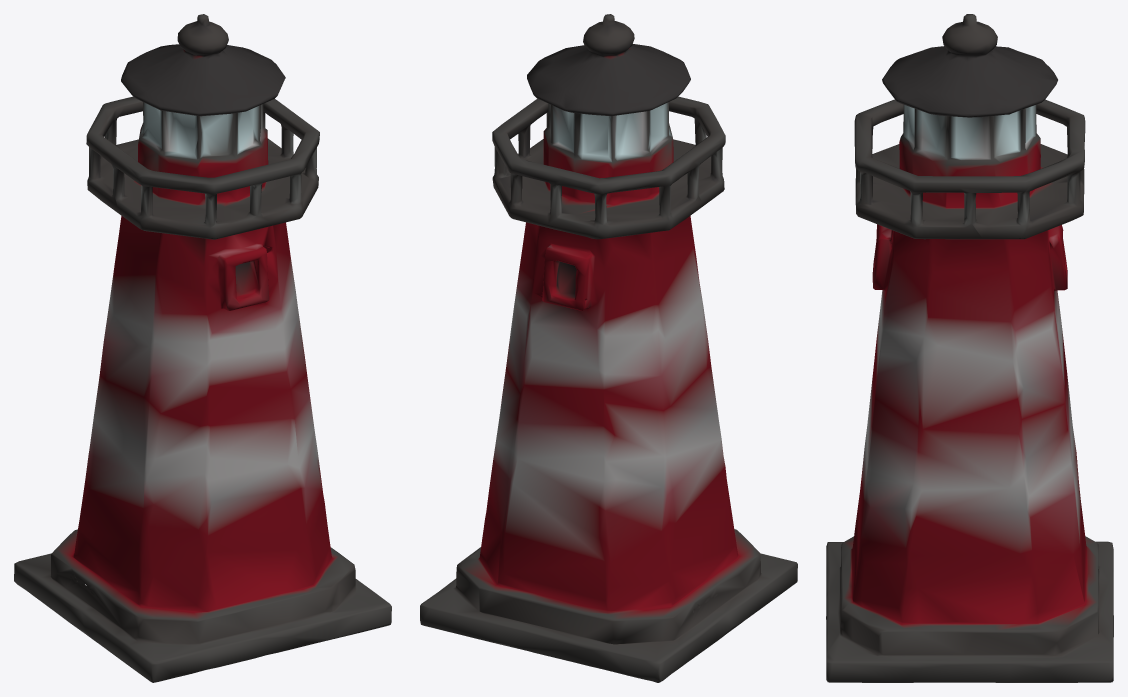
Rendered from gen3d-lighthouse-lod0.glb.
3 renders of one model, left to right at view 1: azimuth 30°, elevation 25°; view 2: azimuth 150°, elevation 25°; view 3: azimuth 270°, elevation 25°, orthographic. The views are drawn at different scales.
Parts seen in each view (by area): view 1: part_0; view 2: part_0; view 3: part_0.
Boxes of the visible parts, x1,y1,x2,y2 form: part_0: (14, 14, 391, 682); part_0: (420, 14, 797, 682); part_0: (826, 14, 1113, 682).
Bounding box in the file's own units: 0.4286 × 0.9988 × 0.4283.
